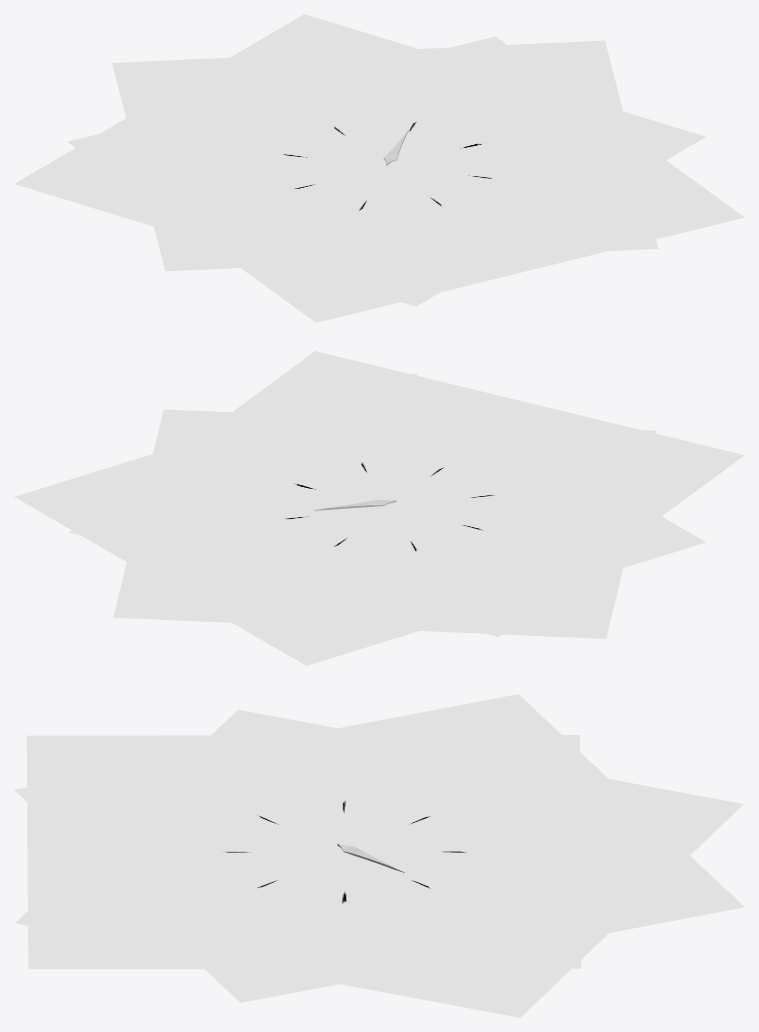
Rendered from clock.fbx.
3 renders of one model, top to bottom at view 1: azimuth 30°, elevation 25°; view 2: azimuth 150°, elevation 25°; view 3: azimuth 270°, elevation 25°, orthographic. The views are drawn at different scales.
Visible parts, largest first — view 1: Plane.004, Plane.001, Plane.006; view 2: Plane.004, Plane.001, Plane.006; view 3: Plane.004, Plane.001, Plane.006.
Part boxes in pixels (bbox=[...]): Plane.004: bbox=[67, 36, 744, 322]; Plane.001: bbox=[14, 14, 705, 306]; Plane.006: bbox=[112, 40, 658, 271]; Plane.004: bbox=[69, 351, 744, 636]; Plane.001: bbox=[113, 409, 656, 638]; Plane.006: bbox=[14, 373, 705, 665]; Plane.004: bbox=[26, 735, 581, 969]; Plane.001: bbox=[14, 694, 744, 1002]; Plane.006: bbox=[15, 709, 743, 1017].
Bounding box in the file's own units: 207 × 3.3 × 198.
Materials: 4 (3 with a texture image).
